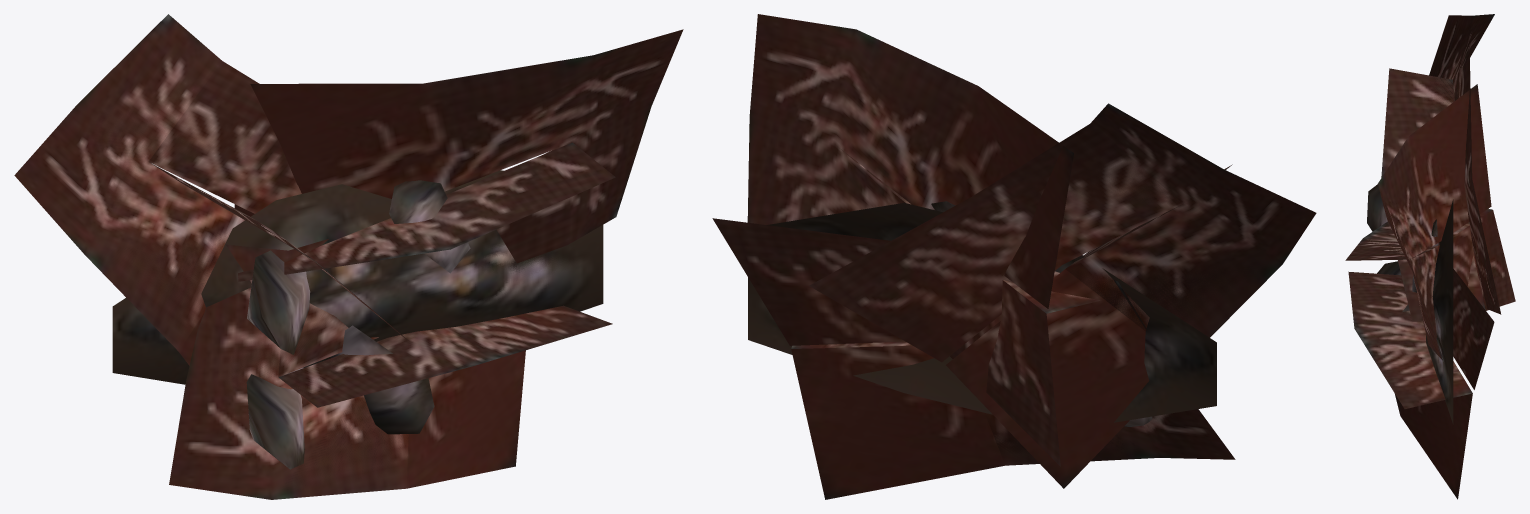
Rendered from pir_m_prp_dvj_mussels_b.fbx.
The picture shows the model from 3 angles, left to right: view 1: azimuth 30°, elevation 25°; view 2: azimuth 150°, elevation 25°; view 3: azimuth 270°, elevation 25°; orthographic projection. The views are drawn at different scales.
Parts seen in each view (by area): view 1: coral13, coral15, coral14, mussels1, coral11, coral10, mussels, coral12, mussel, mussel6, mussel10, mussel9; view 2: coral14, coral13, coral15, mussels1, coral12, coral11, coral10, mussels; view 3: coral13, coral15, coral14, coral10, mussels1, coral11, coral12, mussels, mussel, mussel6.
Part boxes in pixels (bbox=[...]): coral13: bbox=[234, 29, 683, 281]; coral15: bbox=[169, 145, 612, 499]; coral14: bbox=[14, 14, 409, 365]; mussels1: bbox=[112, 170, 603, 384]; coral11: bbox=[234, 56, 650, 281]; coral10: bbox=[188, 148, 610, 499]; mussels: bbox=[112, 173, 603, 384]; coral12: bbox=[78, 16, 404, 363]; mussel: bbox=[247, 250, 310, 354]; mussel6: bbox=[246, 367, 304, 469]; mussel10: bbox=[330, 325, 434, 434]; mussel9: bbox=[389, 180, 470, 273]; coral14: bbox=[809, 103, 1316, 488]; coral13: bbox=[747, 14, 1101, 466]; coral15: bbox=[712, 218, 1235, 499]; mussels1: bbox=[748, 203, 1216, 422]; coral12: bbox=[813, 105, 1281, 487]; coral11: bbox=[748, 31, 1097, 463]; coral10: bbox=[716, 219, 1172, 493]; mussels: bbox=[748, 203, 1216, 421]; coral13: bbox=[1345, 84, 1515, 361]; coral15: bbox=[1348, 269, 1494, 499]; coral14: bbox=[1381, 14, 1501, 321]; coral10: bbox=[1348, 271, 1490, 492]; mussels1: bbox=[1426, 199, 1453, 423]; coral11: bbox=[1371, 85, 1513, 358]; coral12: bbox=[1383, 14, 1498, 320]; mussels: bbox=[1426, 202, 1453, 421]; mussel: bbox=[1367, 184, 1387, 231]; mussel6: bbox=[1377, 261, 1401, 275].
Bounding box in the file's own units: 754 × 589 × 245.
1 material, 1 textured.
